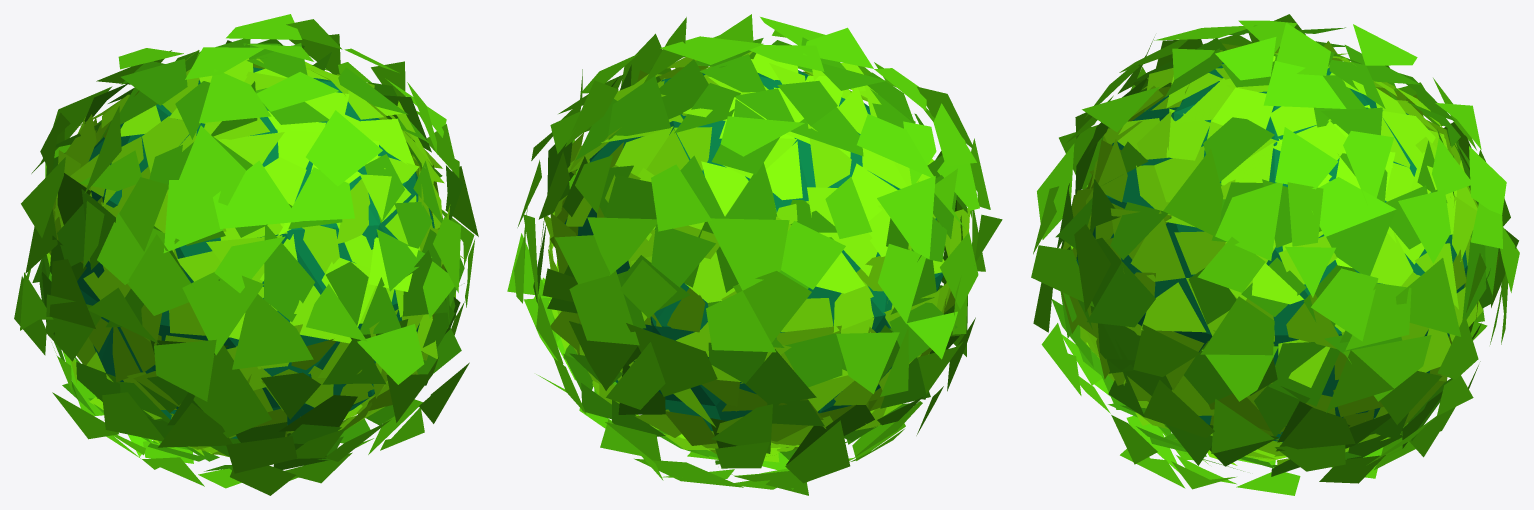
File: uploads_files_3520502_Bush.fbx
3 views of the same model, side by side, from view 1: azimuth 30°, elevation 25°; view 2: azimuth 150°, elevation 25°; view 3: azimuth 270°, elevation 25° (orthographic). The views are drawn at different scales.
Parts seen in each view (by area): view 1: Bottom layer.003; view 2: Bottom layer.003; view 3: Bottom layer.003.
Part boxes in pixels (left/top/right/bottom): Bottom layer.003: left=14, top=14, right=478, bottom=495; Bottom layer.003: left=507, top=14, right=1002, bottom=495; Bottom layer.003: left=1031, top=14, right=1519, bottom=495.
Size of the model in its own units: 329 by 326 by 327.
